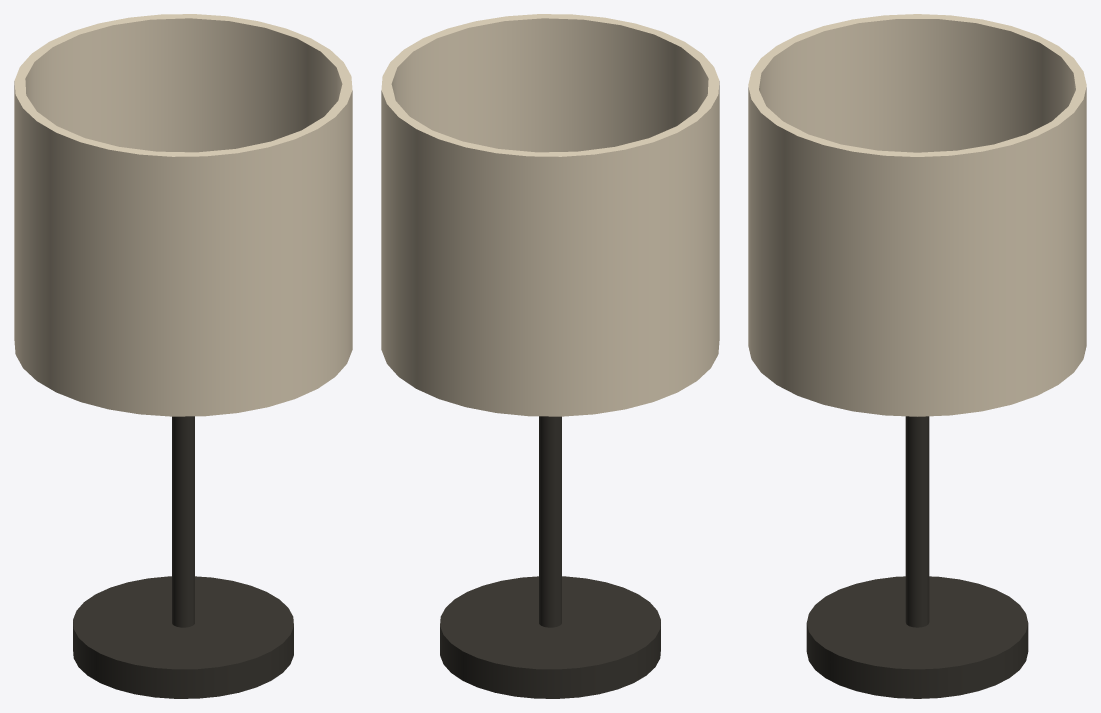
Rendered from light-bedside-east.gltf.
3 views of the same model, side by side, from view 1: azimuth 30°, elevation 25°; view 2: azimuth 150°, elevation 25°; view 3: azimuth 270°, elevation 25° (orthographic).
Visible parts, largest first — view 1: Bedside woven shade, Bedside lamp base, Bedside lamp stem; view 2: Bedside woven shade, Bedside lamp base, Bedside lamp stem; view 3: Bedside woven shade, Bedside lamp base, Bedside lamp stem.
Boxes of the visible parts, x1,y1,x2,y2 form: Bedside woven shade: (14,14,352,416); Bedside lamp base: (73,576,293,698); Bedside lamp stem: (172,416,194,627); Bedside woven shade: (381,14,719,416); Bedside lamp base: (440,576,660,698); Bedside lamp stem: (539,416,561,627); Bedside woven shade: (748,14,1086,416); Bedside lamp base: (806,576,1028,698); Bedside lamp stem: (905,416,929,627).
Bounding box in the file's own units: 0.26 × 0.48 × 0.26.
